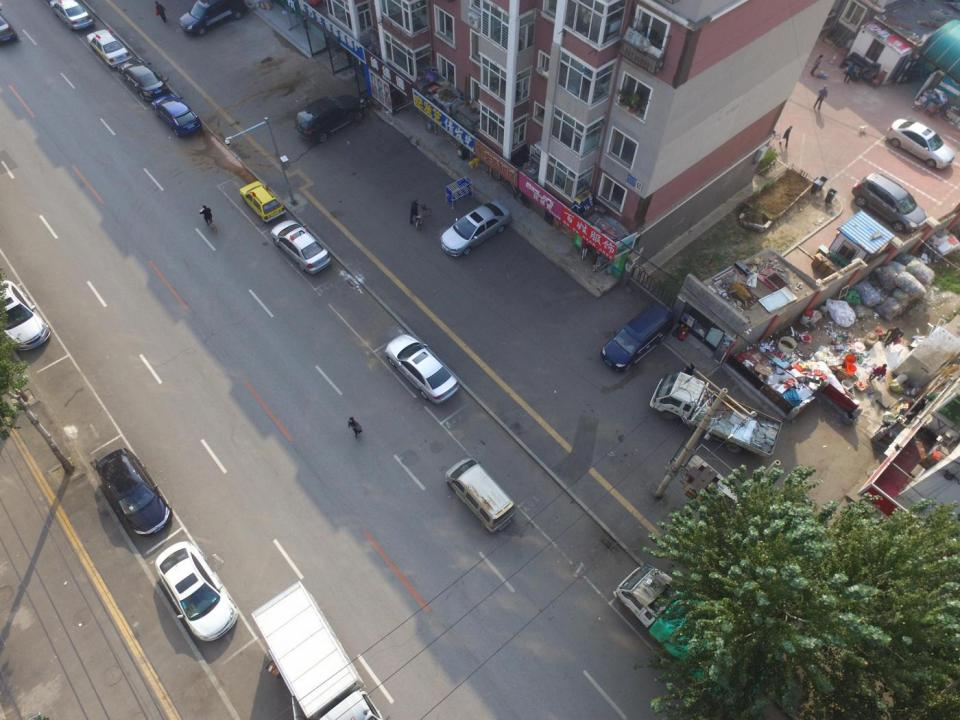car: (154, 540, 238, 642), (95, 448, 173, 536), (384, 333, 461, 405), (440, 199, 512, 258), (293, 93, 366, 143), (0, 279, 51, 350), (271, 219, 332, 275), (117, 58, 170, 103), (151, 92, 201, 138), (239, 180, 287, 224), (86, 28, 132, 68), (49, 0, 96, 34)
truck: (614, 563, 762, 703), (649, 371, 783, 459)
van: (250, 579, 391, 720), (600, 300, 675, 374), (444, 458, 516, 534), (179, 0, 244, 37)
